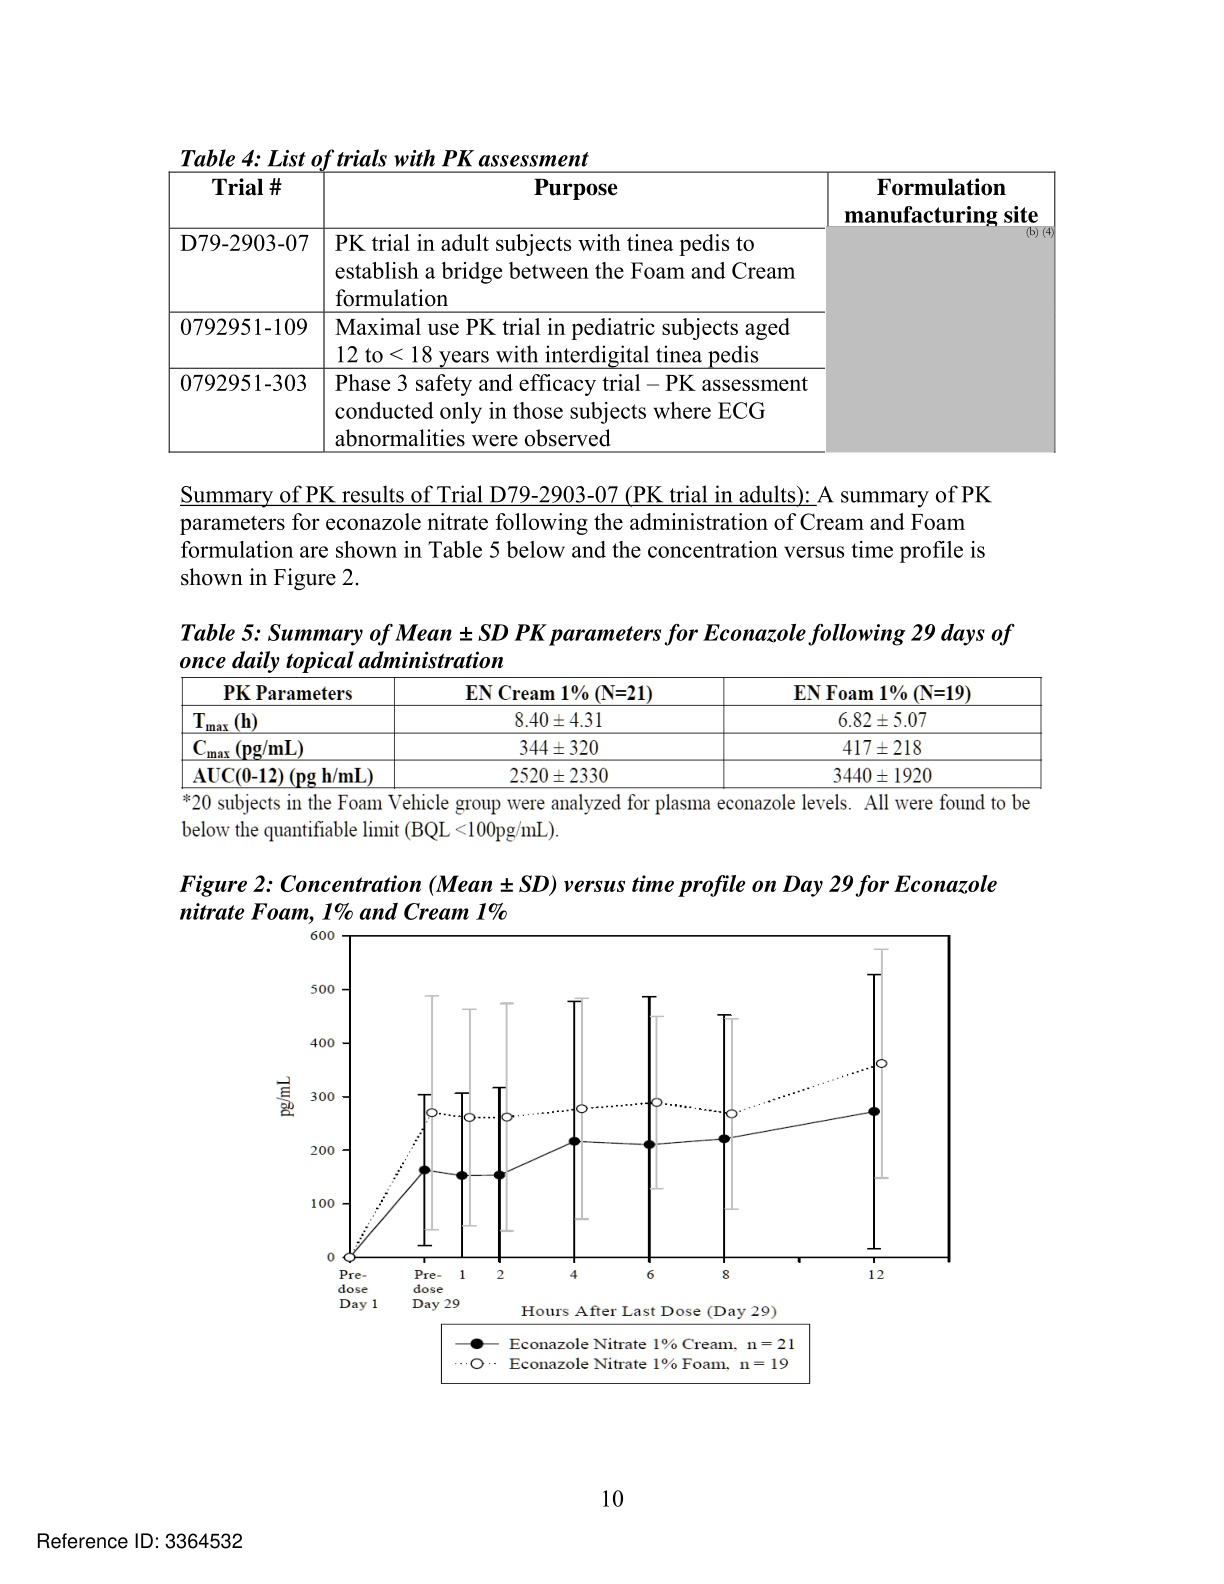full_lined: (180, 676, 1043, 789)
merged_cells: (168, 170, 1057, 454)
